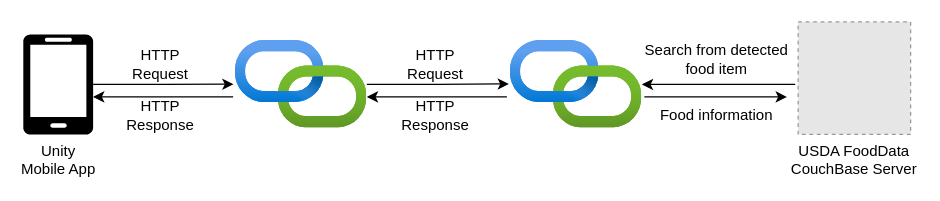
Some shapes in this 940 by 201 pixel diagram are drawn without their labels. Grey dashed boxes stand in for pictures. The shapes that lost their labels are listed below. From the top down, each one's centre as x and y in pixels, then its label:
the point at 300,84: MRCNN + Volume Estimation API
the point at 575,84: Macronutrient API
